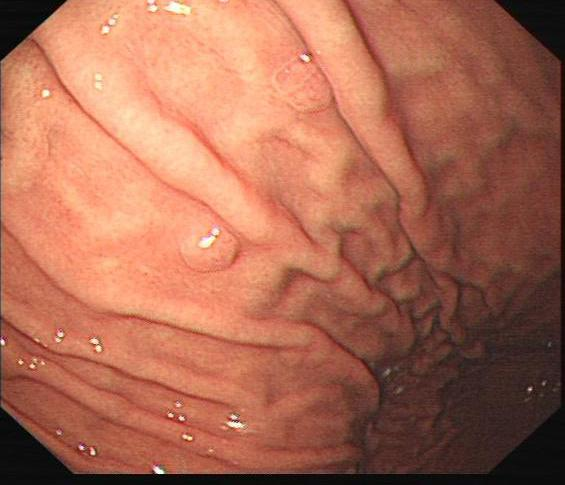Polyp: (181, 219, 243, 278)
